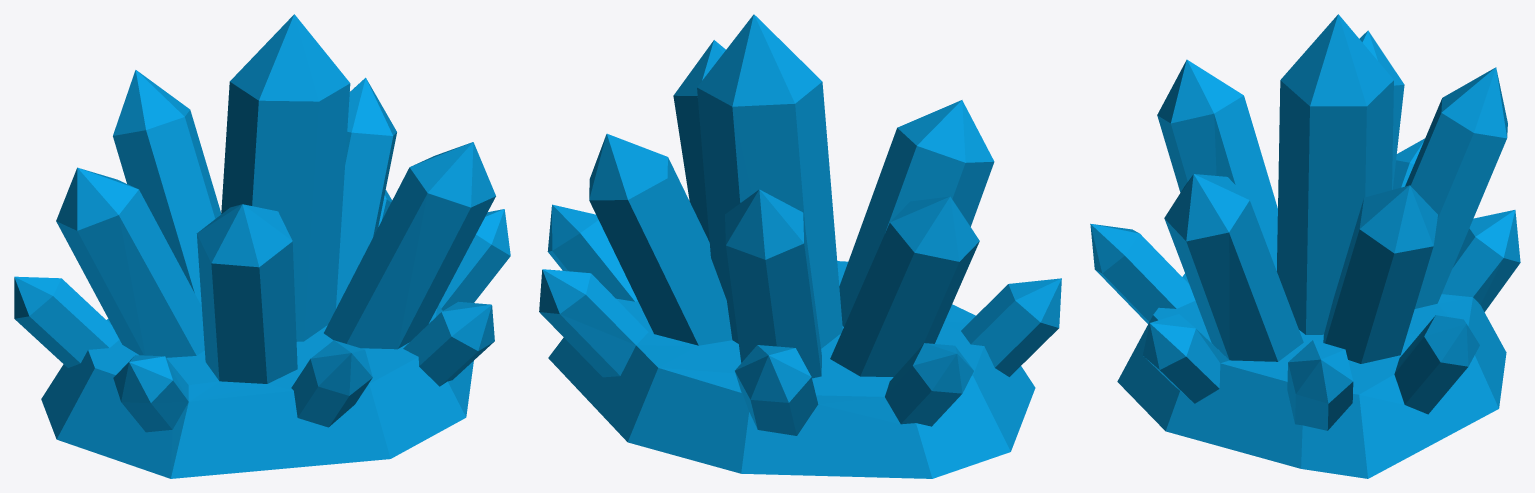
The model's file is DiamondRock.fbx.
The picture shows the model from 3 angles, left to right: view 1: azimuth 30°, elevation 25°; view 2: azimuth 150°, elevation 25°; view 3: azimuth 270°, elevation 25°; orthographic projection. The views are drawn at different scales.
Visible parts, largest first — view 1: DiamondRock; view 2: DiamondRock; view 3: DiamondRock.
Boxes of the visible parts, x1,y1,x2,y2 form: DiamondRock: [14, 14, 510, 478]; DiamondRock: [539, 14, 1061, 478]; DiamondRock: [1090, 14, 1520, 478].
Bounding box in the file's own units: 25.01 × 19.56 × 20.42.
